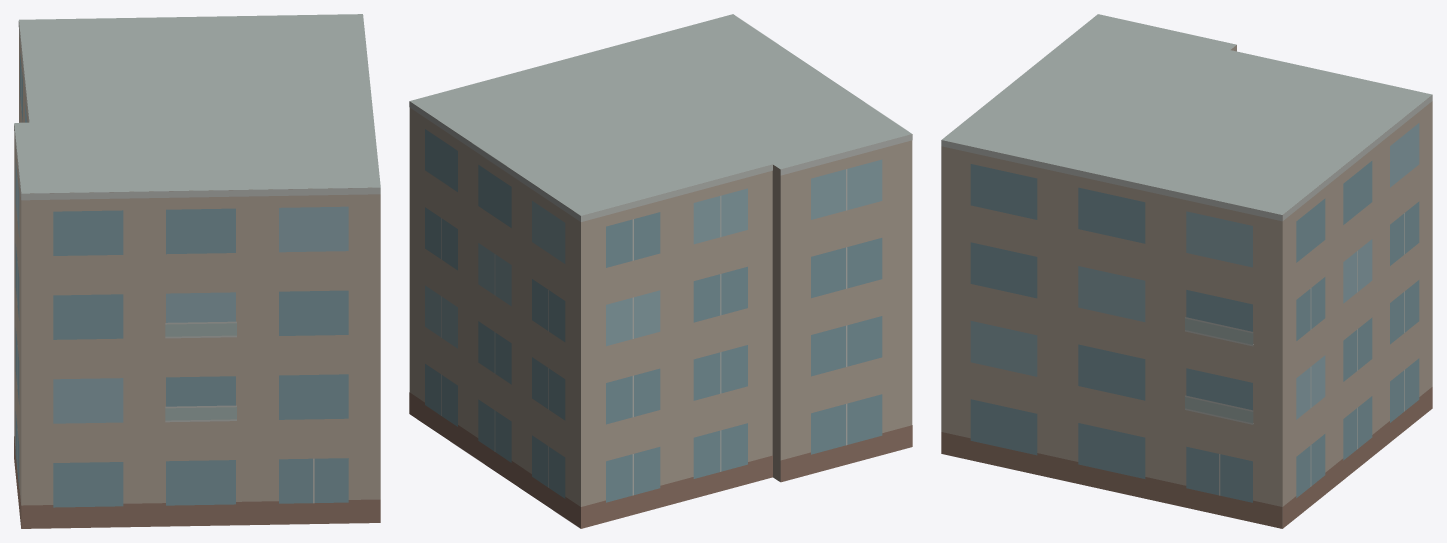
Rendered from survey-upis-32802548.glb.
3 renders of one model, left to right at view 1: azimuth 30°, elevation 25°; view 2: azimuth 150°, elevation 25°; view 3: azimuth 270°, elevation 25°, orthographic. The views are drawn at different scales.
Visible parts, largest first — view 1: survey-upis-32802548.tmp; view 2: survey-upis-32802548.tmp; view 3: survey-upis-32802548.tmp.
Part boxes in pixels (<box>): survey-upis-32802548.tmp: <box>14,14,380,528</box>; survey-upis-32802548.tmp: <box>409,14,912,528</box>; survey-upis-32802548.tmp: <box>941,14,1432,528</box>.
Size of the model in its own units: 16.78 by 12.2 by 17.32.
